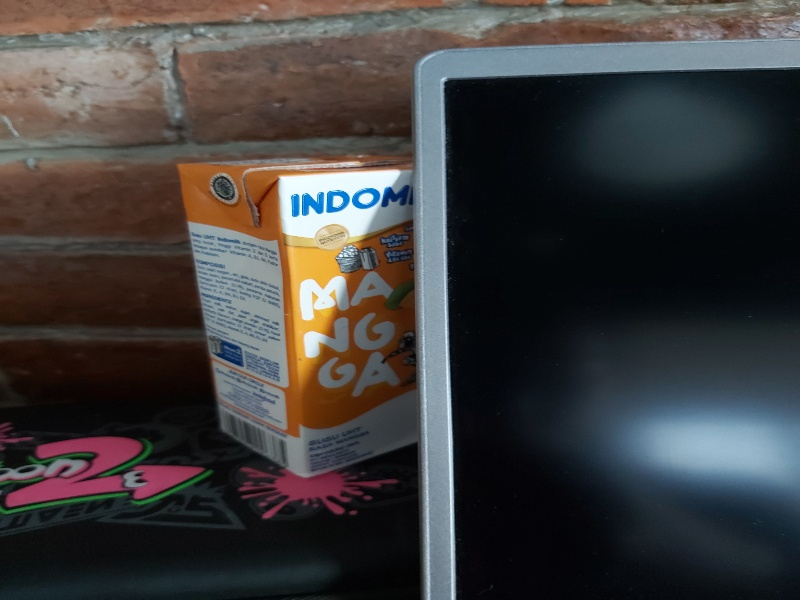mangga: (173, 153, 418, 478)
